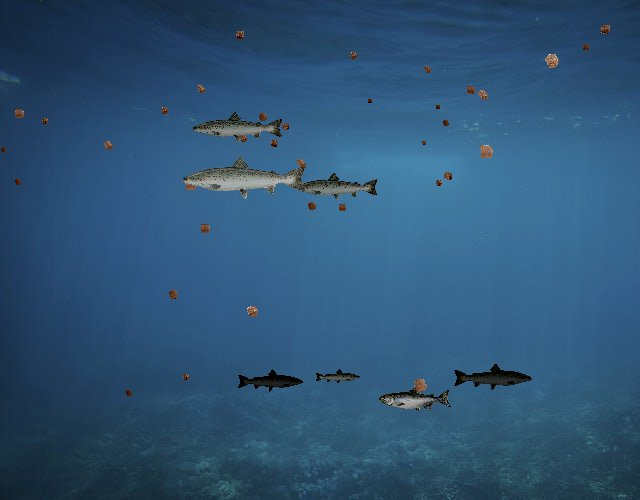Fish: (180, 154, 309, 200), (191, 110, 285, 144), (294, 171, 380, 202), (452, 362, 533, 391), (379, 387, 452, 413), (237, 368, 305, 393), (315, 369, 362, 386)
Pellet: (240, 299, 265, 324), (345, 47, 362, 64), (178, 370, 193, 385), (122, 386, 136, 400), (432, 176, 446, 190), (38, 114, 52, 128)
